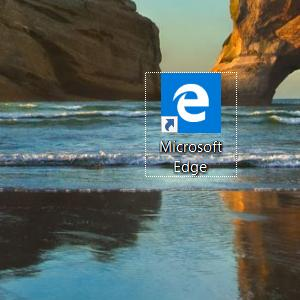edge: (161, 73, 221, 133)
